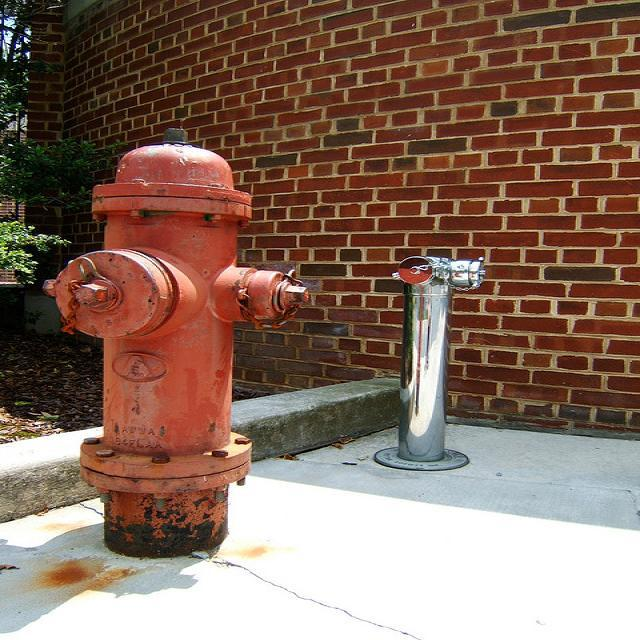fire_hydrant: (45, 123, 311, 559)
